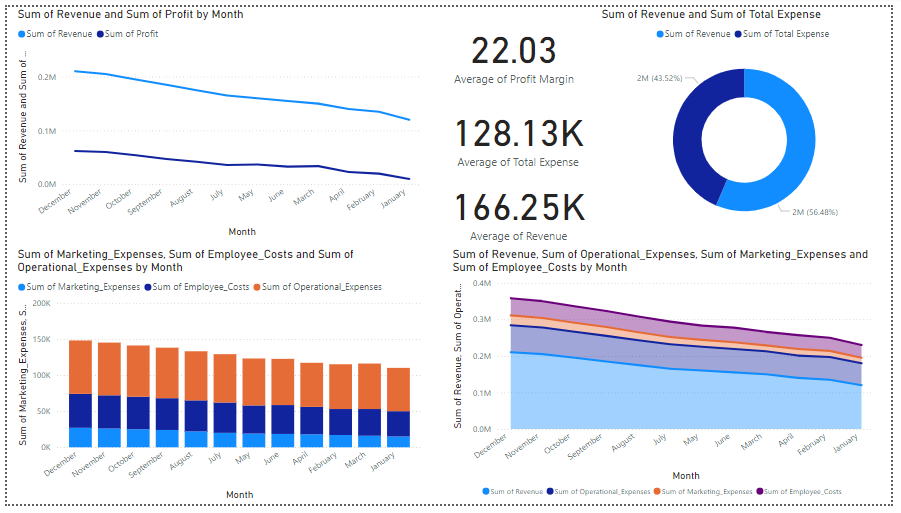

The page's visual inventory and layout, read from the dashboard file:
{"tool":"powerbi","page":{"name":"Financial Dashboard","canvas":[1280,720],"ordinal":0},"visuals":[{"type":"lineChart","fields":{"Y":["Sum(Project 2.Revenue)","Sum(Project 2.Profit)"],"Category":["Project 2.Month"]},"box":[0,0,614.5,347.8],"z":0},{"type":"columnChart","fields":{"Category":["Project 2.Month"],"Y":["Sum(Project 2.Marketing_Expenses)","Sum(Project 2.Employee_Costs)","Sum(Project 2.Operational_Expenses)"]},"box":[0,347.8,614.5,372.5],"z":1000},{"type":"card","fields":{"Values":["Avg(Project 2.Profit Margin)"]},"box":[614.5,0,229,133.3],"z":2000},{"type":"card","fields":{"Values":["Avg(Project 2.Total Expense)"]},"box":[614.5,133.3,227.5,104.3],"z":3000},{"type":"donutChart","fields":{"Y":["Sum(Project 2.Revenue)","Sum(Project 2.Total Expense)"]},"box":[843.5,0,436.2,347.8],"z":4000},{"type":"stackedAreaChart","fields":{"Y":["Sum(Project 2.Revenue)","Sum(Project 2.Operational_Expenses)","Sum(Project 2.Marketing_Expenses)","Sum(Project 2.Employee_Costs)"],"Category":["Project 2.Month"]},"box":[614.5,347.8,665.2,371],"z":5000},{"type":"card","fields":{"Values":["Avg(Project 2.Revenue)"]},"box":[614.5,237.7,229,110.1],"z":6000}]}

Visuals, with their boxes in screenshot pixels (x1, y1, x2, y2), scaled from the page's 1280x720 canvas onto the 901x513 screenshot:
lineChart - Sum(Project 2.Revenue) x Sum(Project 2.Profit): 0,0,433,248
columnChart - Project 2.Month x Sum(Project 2.Marketing_Expenses): 0,248,433,512
card - Avg(Project 2.Profit Margin): 433,0,594,95
card - Avg(Project 2.Total Expense): 433,95,593,169
donutChart - Sum(Project 2.Revenue) x Sum(Project 2.Total Expense): 594,0,900,248
stackedAreaChart - Sum(Project 2.Revenue) x Sum(Project 2.Operational_Expenses): 433,248,900,512
card - Avg(Project 2.Revenue): 433,169,594,248
